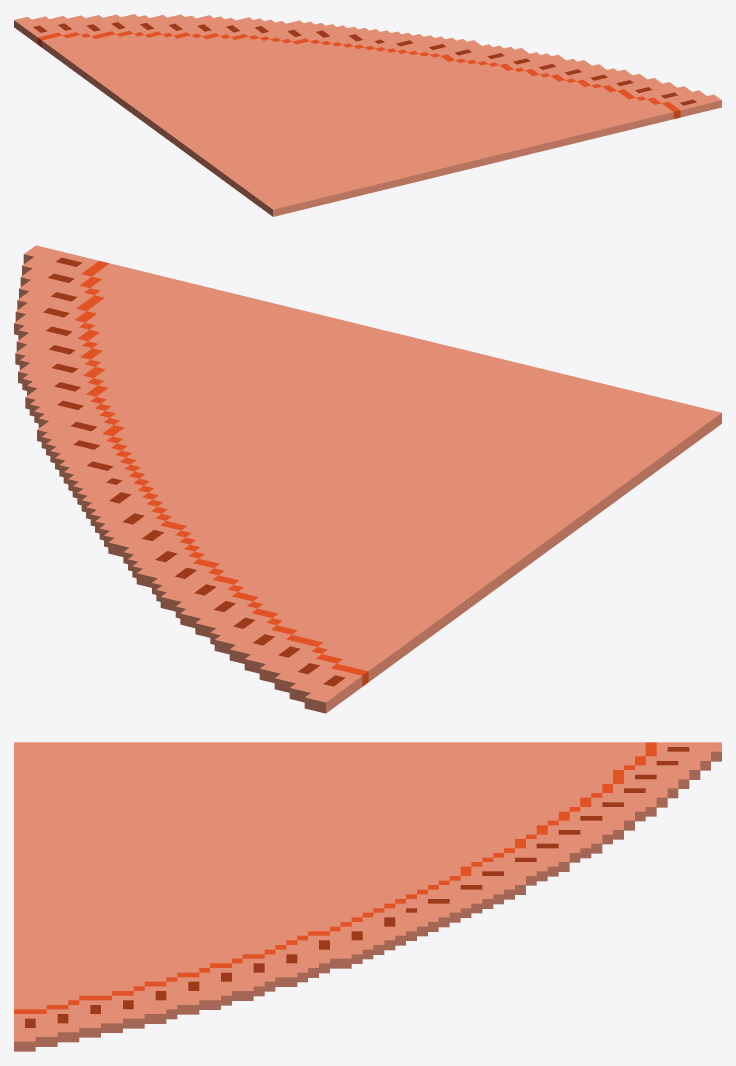
The model's file is 90_Large-3.obj.
The picture shows the model from 3 angles, top to bottom: view 1: azimuth 30°, elevation 25°; view 2: azimuth 150°, elevation 25°; view 3: azimuth 270°, elevation 25°; orthographic projection. The views are drawn at different scales.
Parts seen in each view (by area): view 1: 90_Large-3; view 2: 90_Large-3; view 3: 90_Large-3.
Boxes of the visible parts, x1=… form: 90_Large-3: x1=14, y1=14, x2=721, y2=216; 90_Large-3: x1=14, y1=245, x2=721, y2=713; 90_Large-3: x1=14, y1=742, x2=721, y2=1051.
Size of the model in its own units: 65 by 1 by 65.
Materials: 1 (1 with a texture image).
